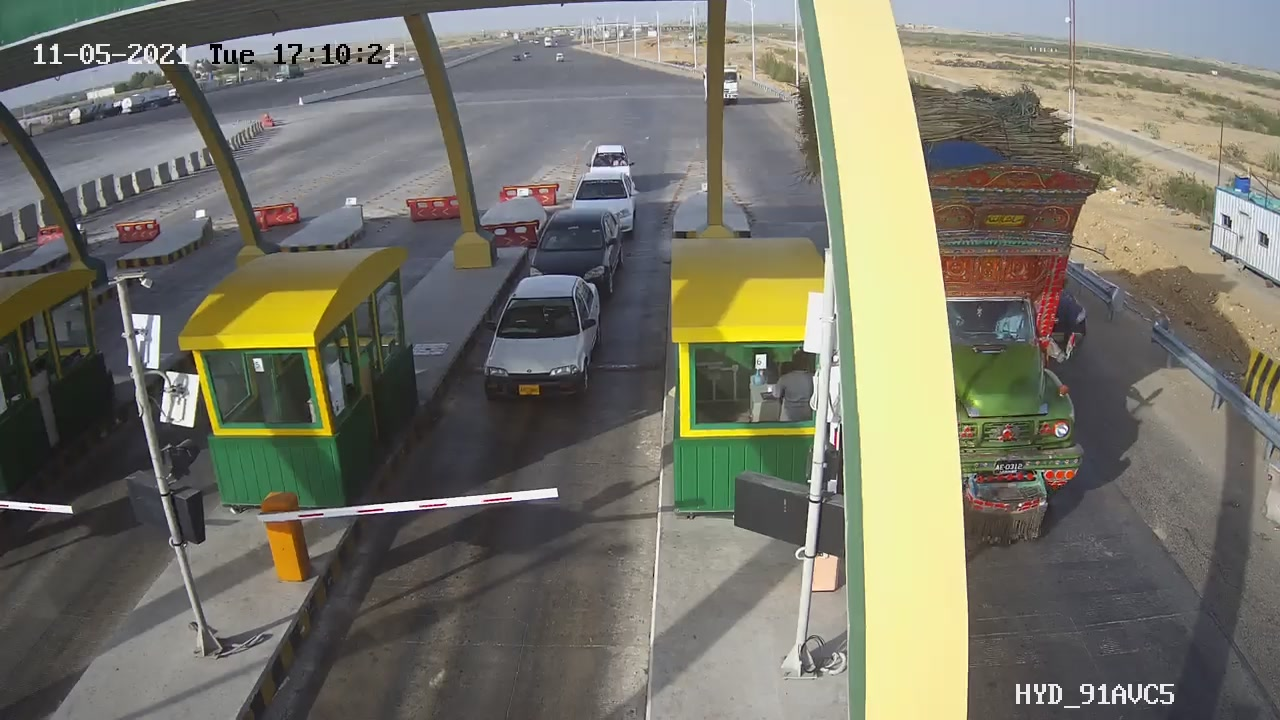F1: (469, 264, 624, 424), (513, 195, 640, 318)
